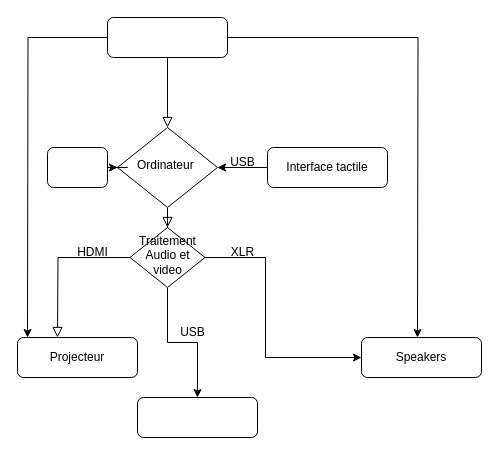
Some shapes in this 499 by 455 pixel diagram are drawn without their labels. The shapes that lost their labels are listed below. From the top down, each one's centre as x and y in pixels, then its label:
At (167,37): "AC".
At (77,167): "Ethernet".
At (197,417): "LED".
